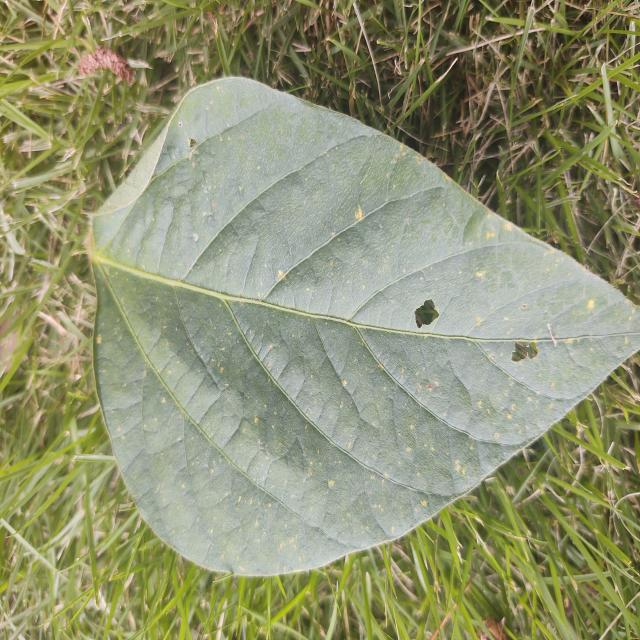Soybean: (86, 76, 640, 580)
downey_mildew: (464, 282, 640, 407), (320, 297, 432, 459), (225, 408, 323, 516), (225, 362, 312, 475), (184, 139, 257, 249), (339, 423, 413, 525), (206, 127, 295, 201), (485, 378, 550, 445), (468, 246, 529, 302), (465, 218, 525, 259), (354, 204, 364, 221), (586, 299, 595, 312), (503, 223, 513, 231), (475, 271, 485, 278), (475, 316, 483, 324), (96, 334, 102, 344), (193, 232, 199, 242), (628, 560, 635, 568), (378, 363, 384, 372), (507, 413, 513, 420), (493, 433, 500, 439), (254, 416, 259, 424), (342, 379, 347, 387), (237, 495, 242, 503), (511, 403, 516, 410), (167, 369, 172, 375), (220, 367, 224, 373), (178, 122, 182, 127)
